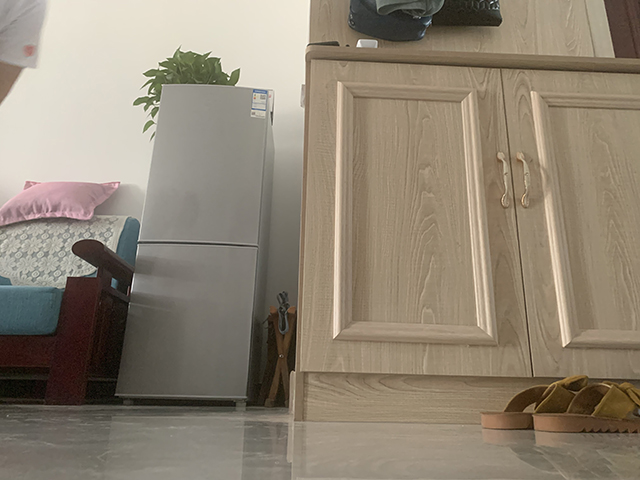cabinet: (289, 43, 640, 424)
slippers: (530, 382, 640, 435), (480, 382, 568, 430)
sofa: (1, 179, 140, 406)
stool: (258, 290, 298, 408)
